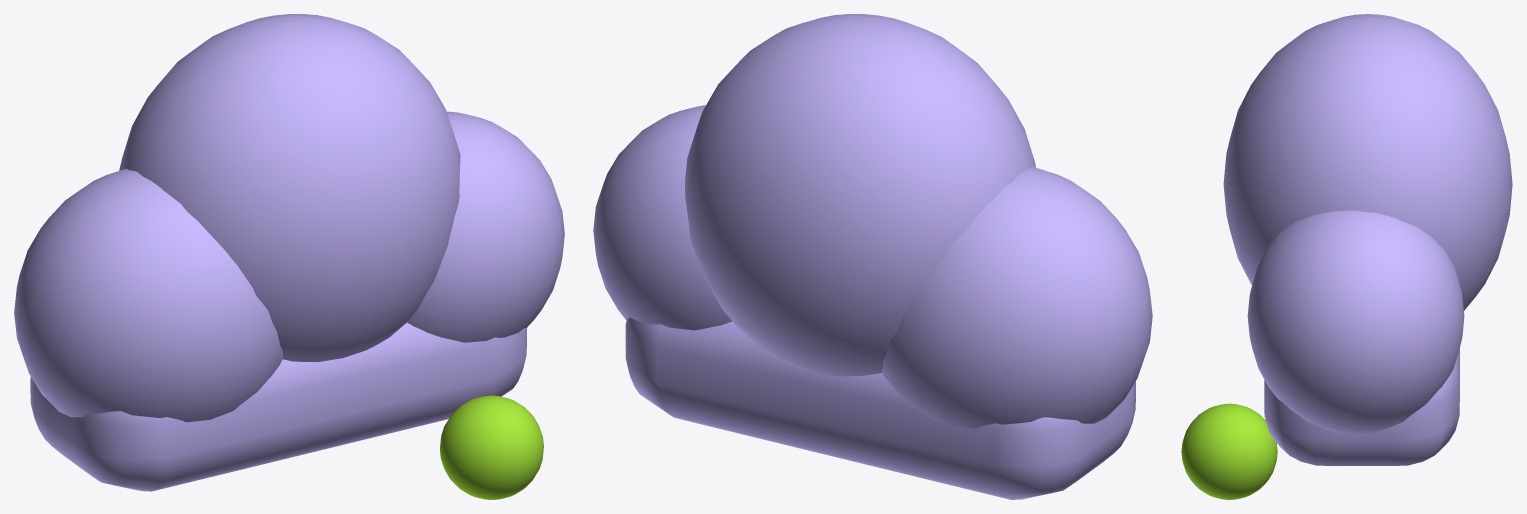
Rendered from cloud.glb.
The picture shows the model from 3 angles, left to right: view 1: azimuth 30°, elevation 25°; view 2: azimuth 150°, elevation 25°; view 3: azimuth 270°, elevation 25°; orthographic projection. The views are drawn at different scales.
Parts seen in each view (by area): view 1: cloud; view 2: cloud; view 3: cloud.
Boxes of the visible parts, x1,y1,x2,y2 form: cloud: [14, 14, 564, 499]; cloud: [593, 14, 1152, 499]; cloud: [1181, 14, 1512, 499].
Size of the model in its own units: 1.83 by 1.5 by 1.1.
